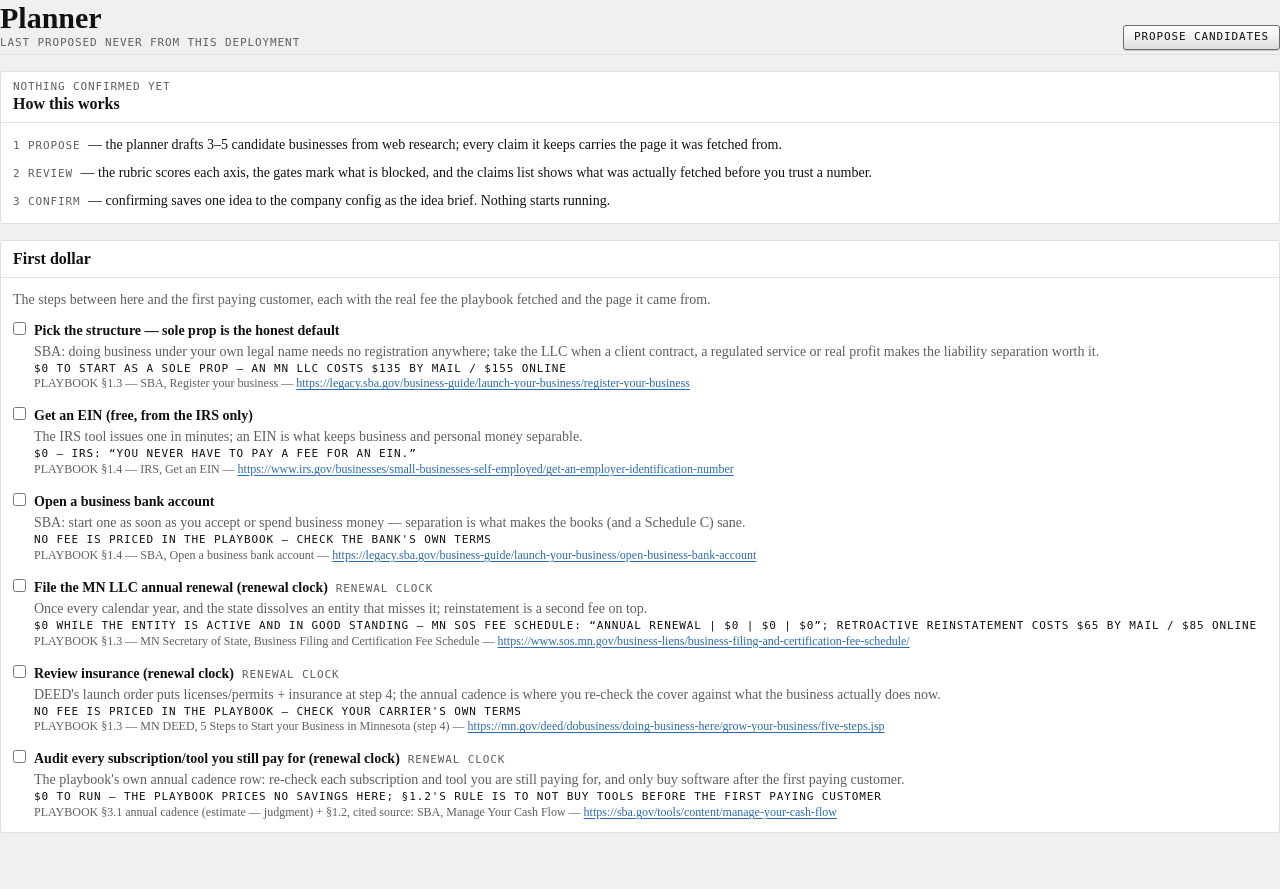
Test: PlannerPage — confirm › confirms by id, states what was saved, and that nothing runs from it
The image size is (1280, 889).
Click the button with test id "planner-propose". click: (1202,37)
box: [1123,25,1279,50]
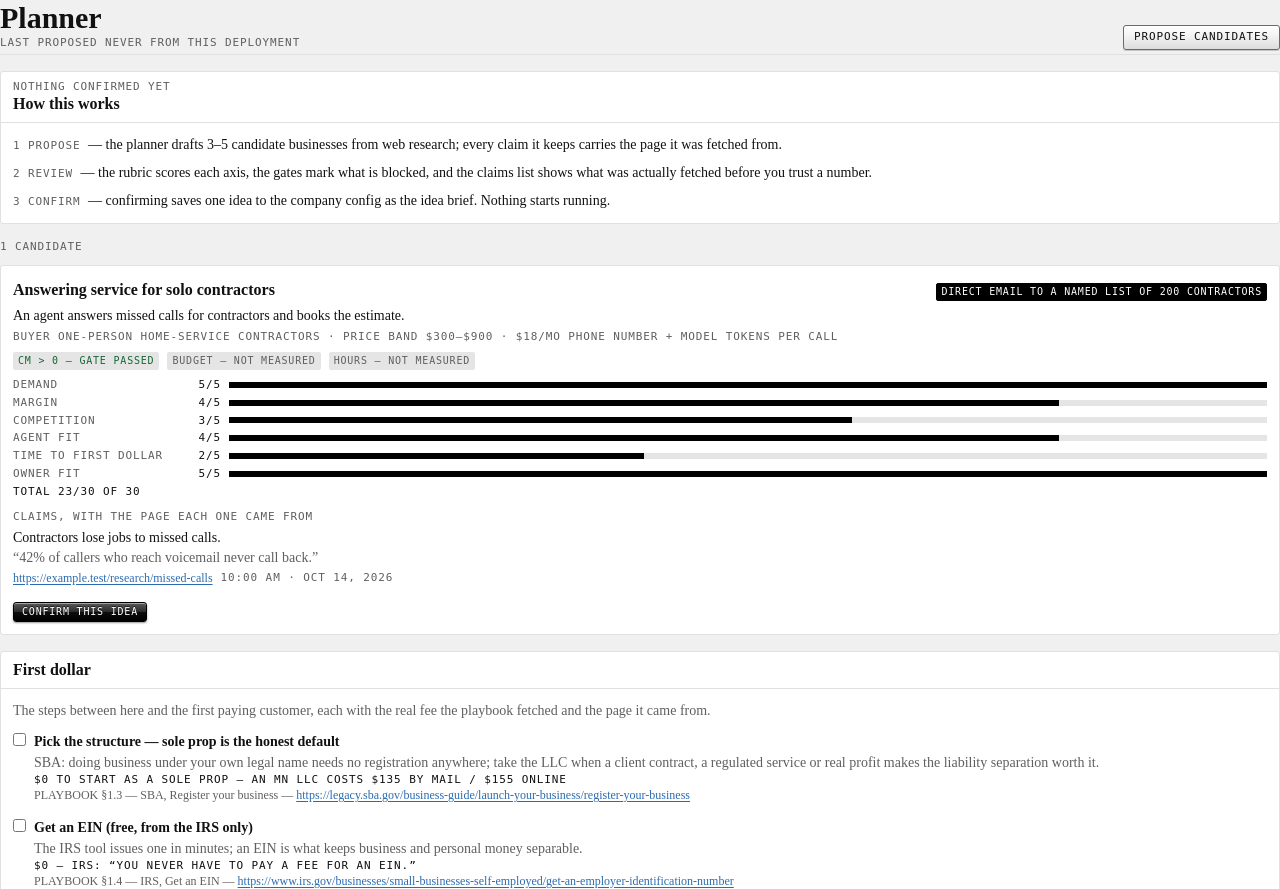
Click the button "Confirm this idea". click: (80,612)
box: [13,602,147,622]
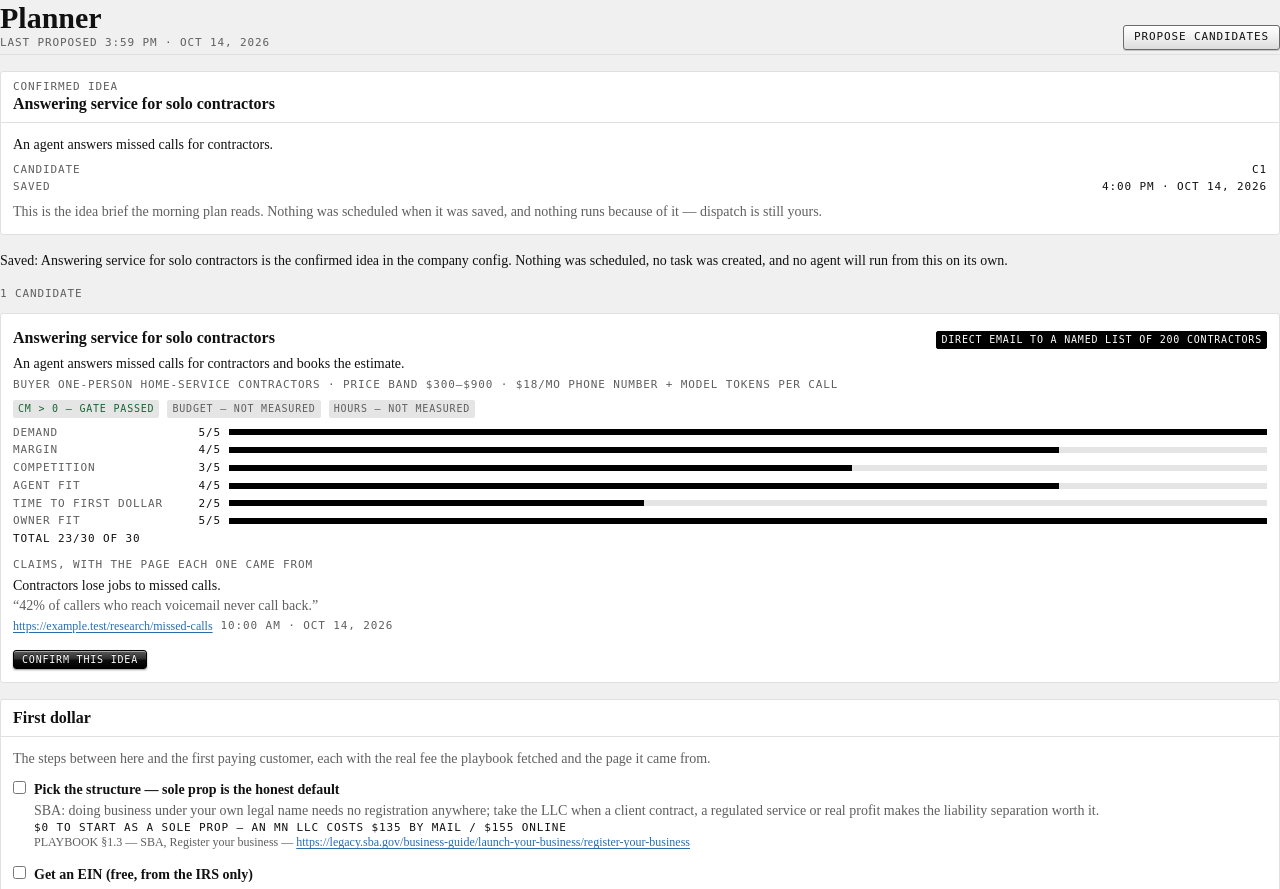
Result: the text with test id "planner-confirmed-note" shows "Answering service for solo contractors" at [0,253,1008,268]
Result: the text with test id "planner-confirmed-note" shows "Nothing was scheduled" at [0,253,1008,268]
Result: the text with test id "planner-confirmed-note" shows "no task was created" at [0,253,1008,268]
